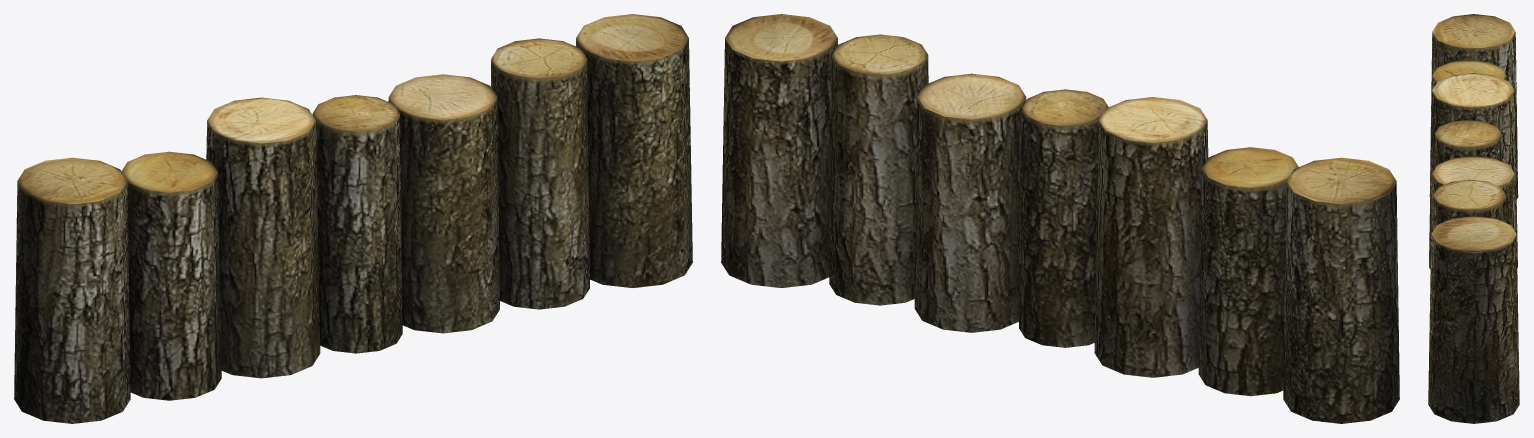
File: Wooden_Wall_Fence_01_hi_mid.FBX
3 views of the same model, side by side, from view 1: azimuth 30°, elevation 25°; view 2: azimuth 150°, elevation 25°; view 3: azimuth 270°, elevation 25° (orthographic). The views are drawn at different scales.
Parts seen in each view (by area): view 1: Wooden_Wall_Fence_01_hi_mid; view 2: Wooden_Wall_Fence_01_hi_mid; view 3: Wooden_Wall_Fence_01_hi_mid.
Boxes of the visible parts, x1,y1,x2,y2 form: Wooden_Wall_Fence_01_hi_mid: (14,14,692,423); Wooden_Wall_Fence_01_hi_mid: (721,14,1399,423); Wooden_Wall_Fence_01_hi_mid: (1428,14,1519,423).
Bounding box in the file's own units: 19.52 × 6.56 × 3.08.
Materials: 1 (1 with a texture image).
